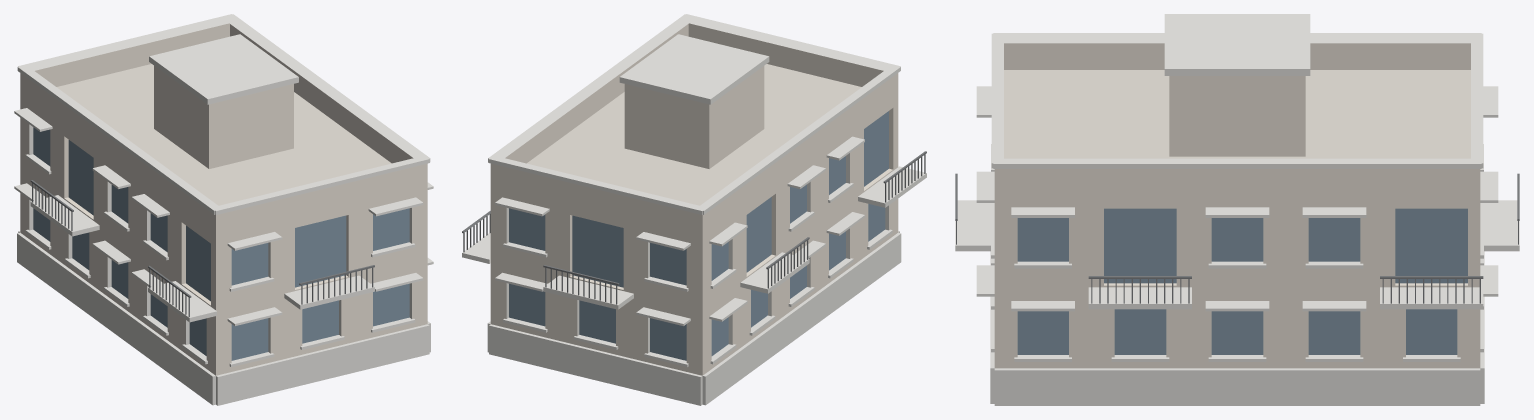
Rendered from Block_near_ATM_3.fbx.
3 views of the same model, side by side, from view 1: azimuth 30°, elevation 25°; view 2: azimuth 150°, elevation 25°; view 3: azimuth 270°, elevation 25° (orthographic). The views are drawn at different scales.
Parts seen in each view (by area): view 1: Block_near_ATM_3; view 2: Block_near_ATM_3; view 3: Block_near_ATM_3.
Part boxes in pixels (x1,y1,x2,y2): Block_near_ATM_3: (14,14,433,405); Block_near_ATM_3: (462,14,926,405); Block_near_ATM_3: (955,14,1519,405).
Size of the model in its own units: 12.6 by 10.85 by 18.6.
